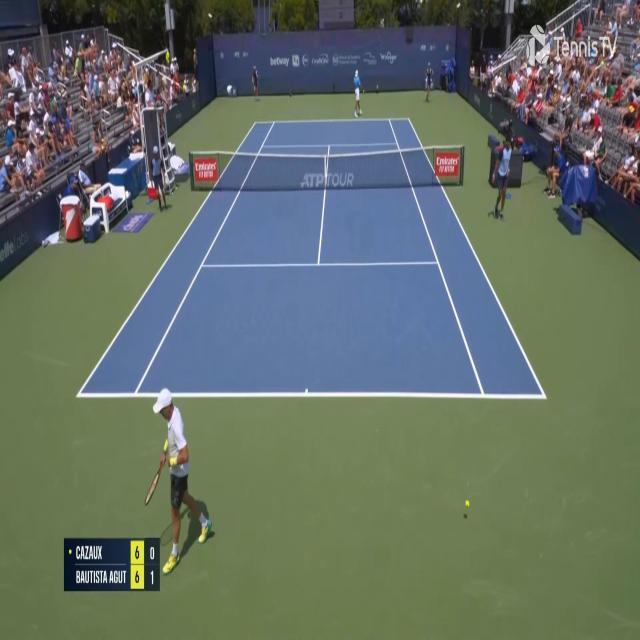tennis-player: (141, 380, 217, 572), (353, 68, 364, 118)
